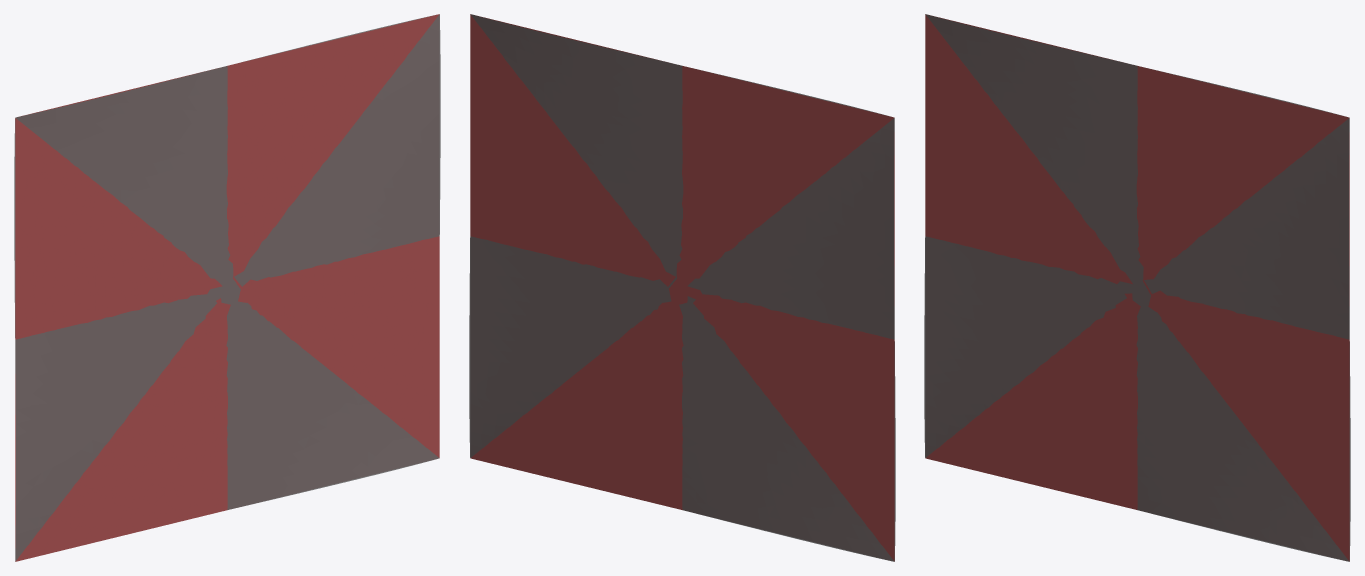
Rendered from warping-rectangle-100-100-1317.glb.
3 renders of one model, left to right at view 1: azimuth 30°, elevation 25°; view 2: azimuth 150°, elevation 25°; view 3: azimuth 330°, elevation 25°, orthographic.
Parts seen in each view (by area): view 1: undeformed cross-section, cross-section with warping; view 2: undeformed cross-section, cross-section with warping; view 3: undeformed cross-section, cross-section with warping.
Part boxes in pixels (box(x1,y1,x2,y2)): undeformed cross-section: box(15, 14, 439, 561); cross-section with warping: box(14, 14, 440, 561); undeformed cross-section: box(470, 14, 894, 561); cross-section with warping: box(469, 14, 895, 561); undeformed cross-section: box(925, 14, 1349, 561); cross-section with warping: box(924, 14, 1350, 561).
Bounding box in the file's own units: 0.1 × 0.1 × 0.000731.
